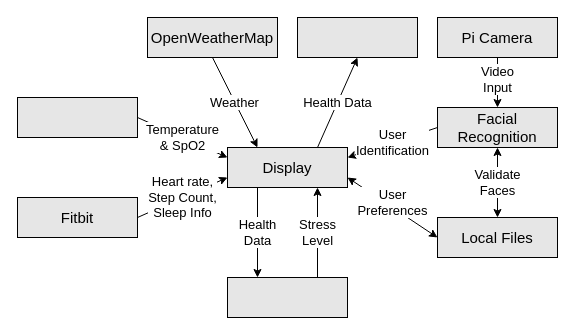
The diagram is 575 pixels wide and 335 high, and some of its shapes have lost their labels. Here are the shapes that lost their labels. From the top down, the centre of each, then its label:
the point at 357,37: Firebase
the point at 77,117: Arduino Sensors
the point at 287,297: Machine Learning
